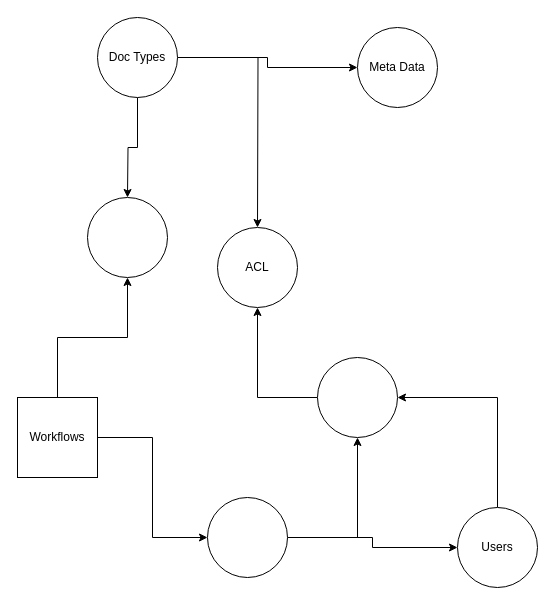
The diagram is 555 pixels wide and 605 high, and some of its shapes have lost their labels. Here are the shapes that lost their labels. From the top down, the box of each, then its label:
(86, 196, 168, 278): Cabinet
(316, 356, 398, 438): Roles
(206, 496, 288, 578): Groups
